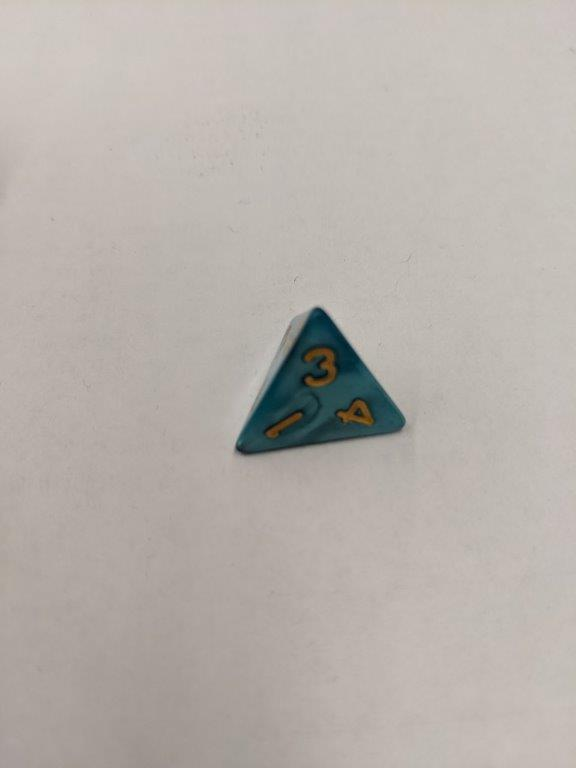d4-3: (231, 302, 406, 458)
